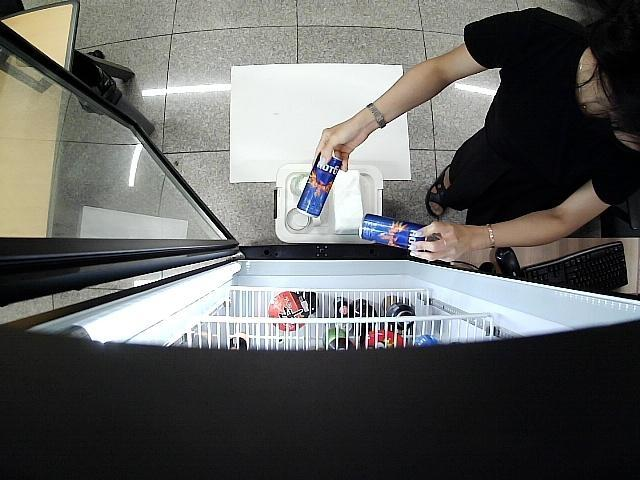16_hot6: (360, 212, 440, 255), (294, 151, 343, 220)
